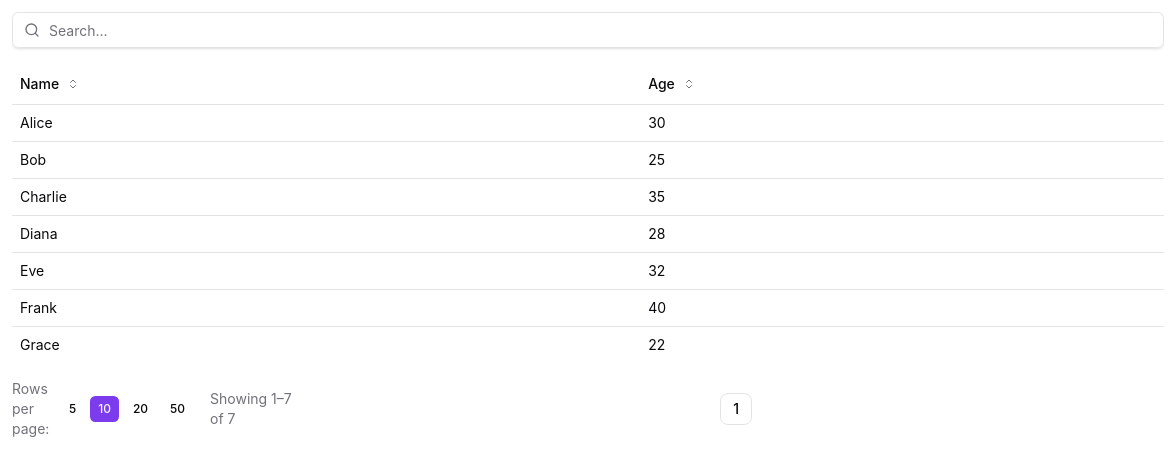
Test case: DataTable › filters data by search key
Type "Al" into the field labelled "Search...".
click(588, 30); type("Al")  # box [12,12,1164,48]
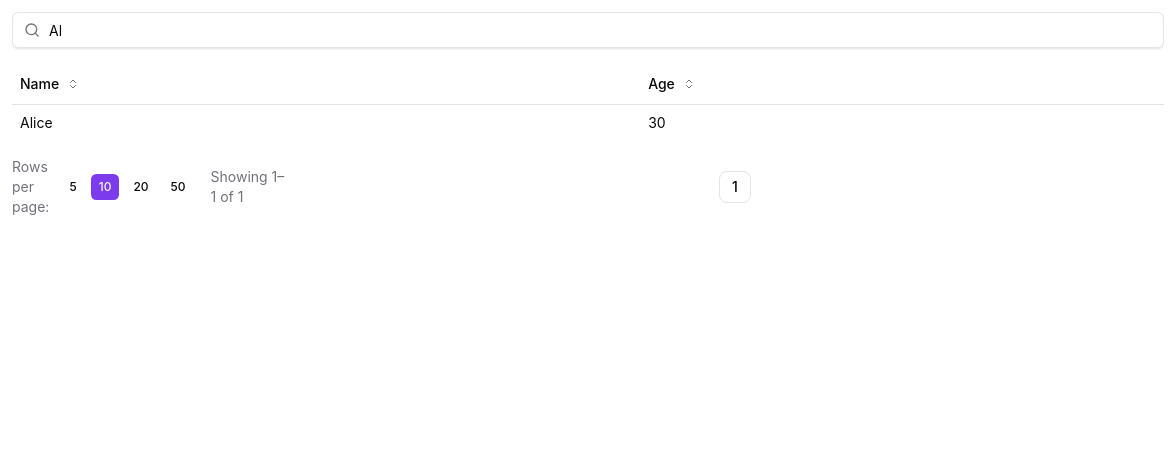
Expected: the text "Alice" is shown, [12,104,640,140]
Expected: the text "Bob" is gone
